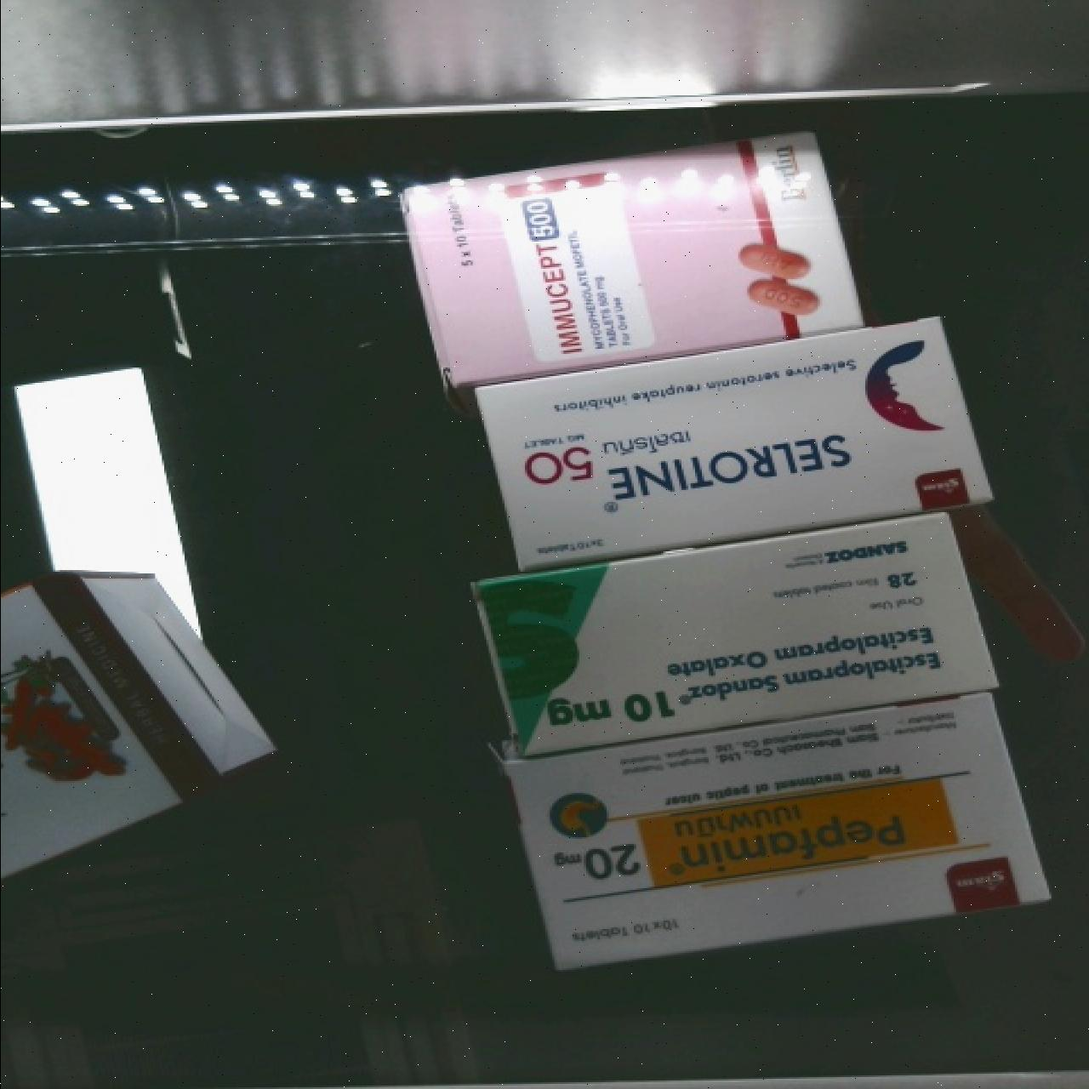medicine_label_obb: (494, 376, 883, 549), (525, 602, 961, 747), (531, 768, 939, 912), (483, 172, 601, 375)
